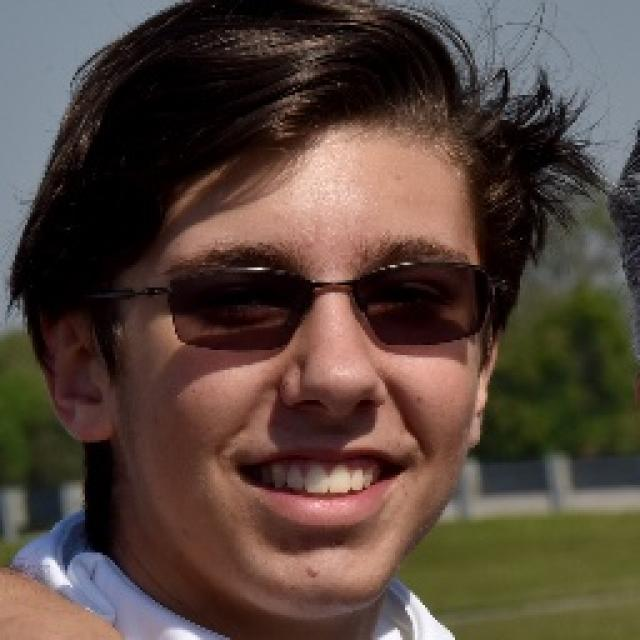earlobe: (73, 402, 114, 445), (465, 410, 486, 450)
eye: (366, 280, 446, 310), (199, 286, 279, 314)
nose: (286, 401, 388, 446)
wholeear: (27, 294, 116, 444), (464, 306, 502, 450)
